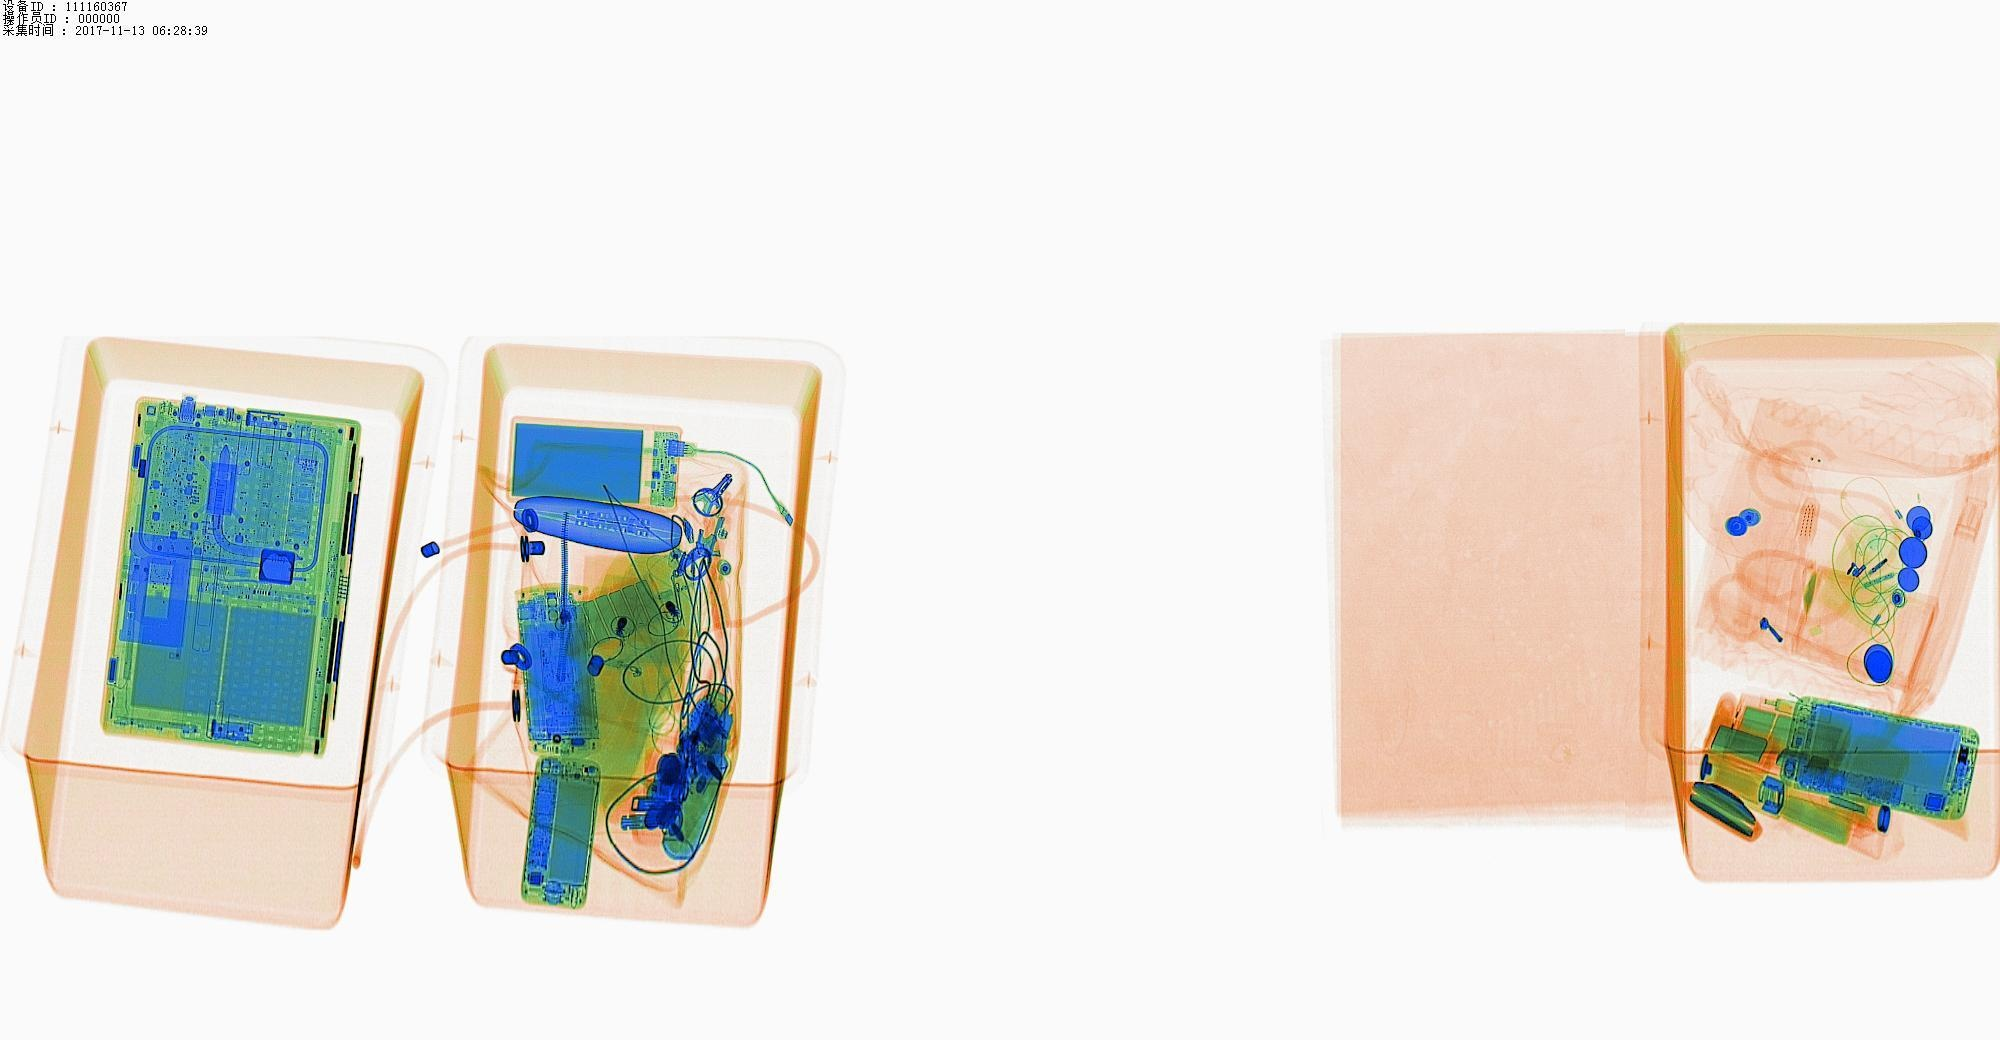coreless: (509, 419, 675, 504)
